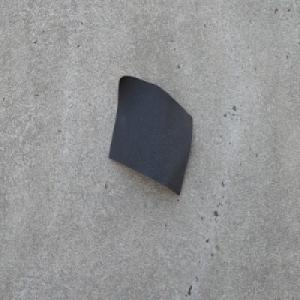PaintChip: (107, 69, 194, 196)
